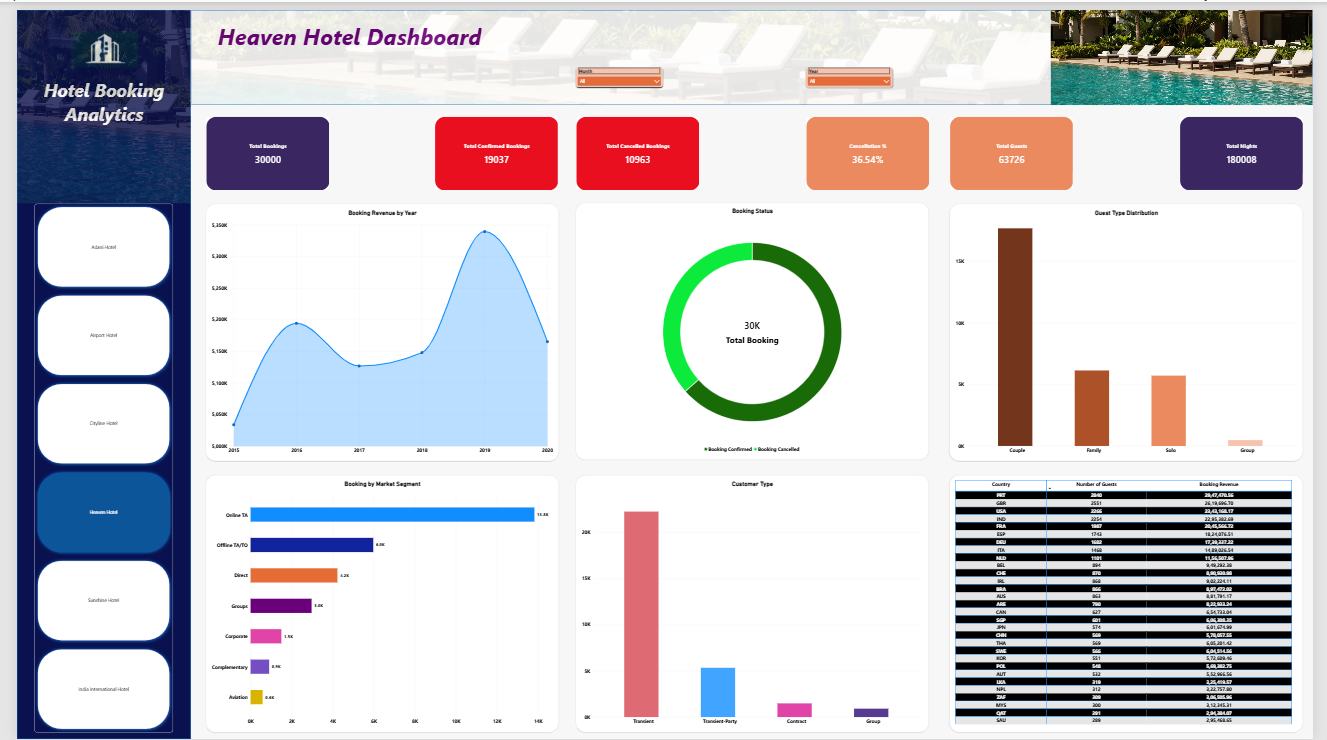

This screenshot's page, from the dashboard's own definition file:
{"tool":"powerbi","page":{"name":"Heaven Hotel","canvas":[3840,2160],"ordinal":3},"visuals":[{"type":"shape","box":[0,0,515,2160],"z":0},{"type":"image","box":[158,62,200,107],"z":1000},{"type":"shape","box":[515,0,3325,281.2],"z":2000},{"type":"image","box":[3061.5,0,775,281.2],"z":3000},{"type":"image","box":[515.4,0,2546.2,280.8],"z":4000},{"type":"donutChart","title":"Booking  Status ","fields":{"Category":["Heaven_Hotel.Booking  Status"],"Y":["CountNonNull(Heaven_Hotel.Booking  Status)"]},"box":[1656.1,570.7,1046.4,762.5],"z":5000},{"type":"barChart","title":"Booking by Market Segment ","fields":{"Category":["Heaven_Hotel.market_segment"],"Y":["CountNonNull(Heaven_Hotel.market_segment)"]},"box":[558,1378,1046,762],"z":6000},{"type":"clusteredColumnChart","title":"Guest  Type  Distribution","fields":{"Category":["Heaven_Hotel.Guest  Type"],"Y":["CountNonNull(Heaven_Hotel.Guest  Type)"]},"box":[2762.5,572.5,1047.5,762.5],"z":7000},{"type":"stackedAreaChart","title":"Booking  Revenue by Year","fields":{"Category":["Heaven_Hotel.Year"],"Y":["Sum(Heaven_Hotel.Booking  Revenue)"]},"box":[558.9,573.2,1046.4,762.5],"z":8000},{"type":"cardVisual","title":"Total Bookings","fields":{"Data":["Heaven_Hotel.Total Booking"]},"box":[1235.3,315.7,367.5,220],"z":9000},{"type":"cardVisual","title":"Total Bookings","fields":{"Data":["Heaven_Hotel.Total  cancelled Bookings"]},"box":[1656.9,313.7,367.5,220],"z":10000},{"type":"cardVisual","title":"Total Bookings","fields":{"Data":["Heaven_Hotel.Total night"]},"box":[3443.1,315.7,367.5,220],"z":11000},{"type":"cardVisual","title":"Total Bookings","fields":{"Data":["Heaven_Hotel.Total  Guest"]},"box":[2762.7,313.7,367.5,220],"z":12000},{"type":"cardVisual","title":"Total Bookings","fields":{"Data":["Heaven_Hotel.Cancellation     %"]},"box":[2337.3,315.7,367.5,220],"z":13000},{"type":"image","box":[0,0,515,572.5],"z":14000},{"type":"pageNavigator","box":[50,573.3,410,1566.7],"z":15000},{"type":"slicer","fields":{"Values":["Heaven_Hotel.Year"]},"box":[2337.7,169.6,257.6,59.8],"z":16000},{"type":"slicer","fields":{"Values":["Heaven_Hotel.Month"]},"box":[1656.5,169.6,258.5,58.5],"z":17000},{"type":"clusteredColumnChart","title":"Customer Type","fields":{"Category":["Heaven_Hotel.customer_type"],"Y":["CountNonNull(Heaven_Hotel.customer_type)"]},"box":[1656.1,1378,1046,762],"z":18000},{"type":"tableEx","fields":{"Values":["Heaven_Hotel.country","CountNonNull(Heaven_Hotel.country)","Sum(Heaven_Hotel.Booking  Revenue)"]},"box":[2762.4,1377.6,1047.1,762.4],"z":19000},{"type":"cardVisual","title":"Total Bookings","fields":{"Data":["CountNonNull(Heaven_Hotel.Booking  Status)"]},"box":[560,315,367.5,220],"z":19001}]}

Visuals, with their boxes on the page's 3840x2160 design canvas (x1, y1, x2, y2). These are canvas units, not pixel positions in the 1327x740 screenshot, which may show the page scaled, cropped or inside an application window:
shape: locate(0, 0, 515, 2160)
image: locate(158, 62, 358, 169)
shape: locate(515, 0, 3840, 281)
image: locate(3062, 0, 3836, 281)
image: locate(515, 0, 3062, 281)
"Booking  Status " donutChart: locate(1656, 571, 2702, 1333)
"Booking by Market Segment " barChart: locate(558, 1378, 1604, 2140)
"Guest  Type  Distribution" clusteredColumnChart: locate(2762, 572, 3810, 1335)
"Booking  Revenue by Year" stackedAreaChart: locate(559, 573, 1605, 1336)
"Total Bookings" cardVisual: locate(1235, 316, 1603, 536)
"Total Bookings" cardVisual: locate(1657, 314, 2024, 534)
"Total Bookings" cardVisual: locate(3443, 316, 3811, 536)
"Total Bookings" cardVisual: locate(2763, 314, 3130, 534)
"Total Bookings" cardVisual: locate(2337, 316, 2705, 536)
image: locate(0, 0, 515, 572)
pageNavigator: locate(50, 573, 460, 2140)
slicer - Heaven_Hotel.Year: locate(2338, 170, 2595, 229)
slicer - Heaven_Hotel.Month: locate(1656, 170, 1915, 228)
"Customer Type" clusteredColumnChart: locate(1656, 1378, 2702, 2140)
tableEx - Heaven_Hotel.country x CountNonNull(Heaven_Hotel.country): locate(2762, 1378, 3810, 2140)
"Total Bookings" cardVisual: locate(560, 315, 928, 535)
